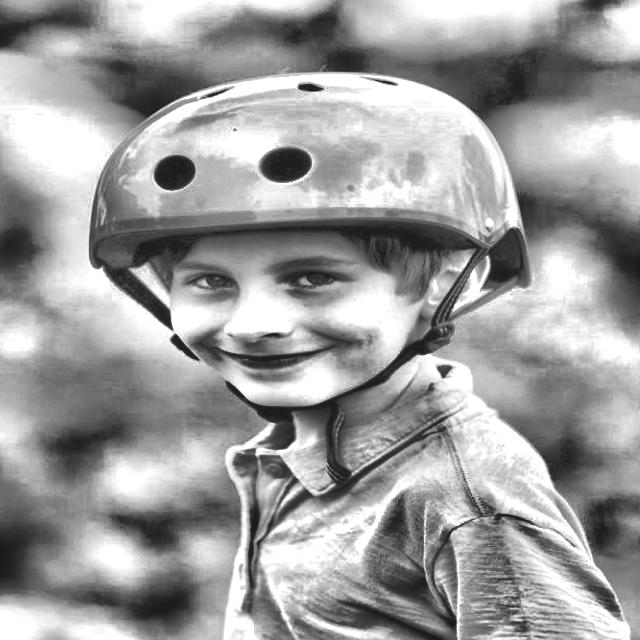Helmet: (59, 45, 547, 436)
